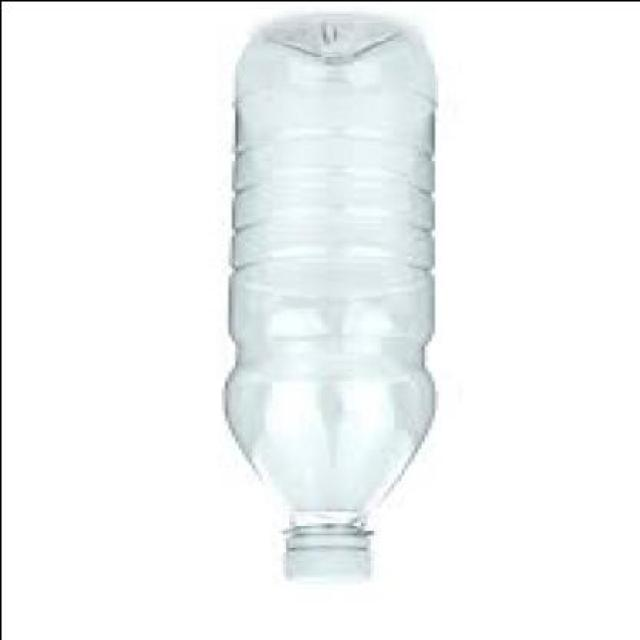PLASTIC: (217, 14, 437, 584), (275, 530, 362, 582)
